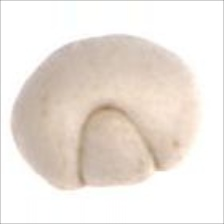L5: (75, 101, 166, 189), (60, 32, 140, 50)
L6: (10, 33, 202, 195)
